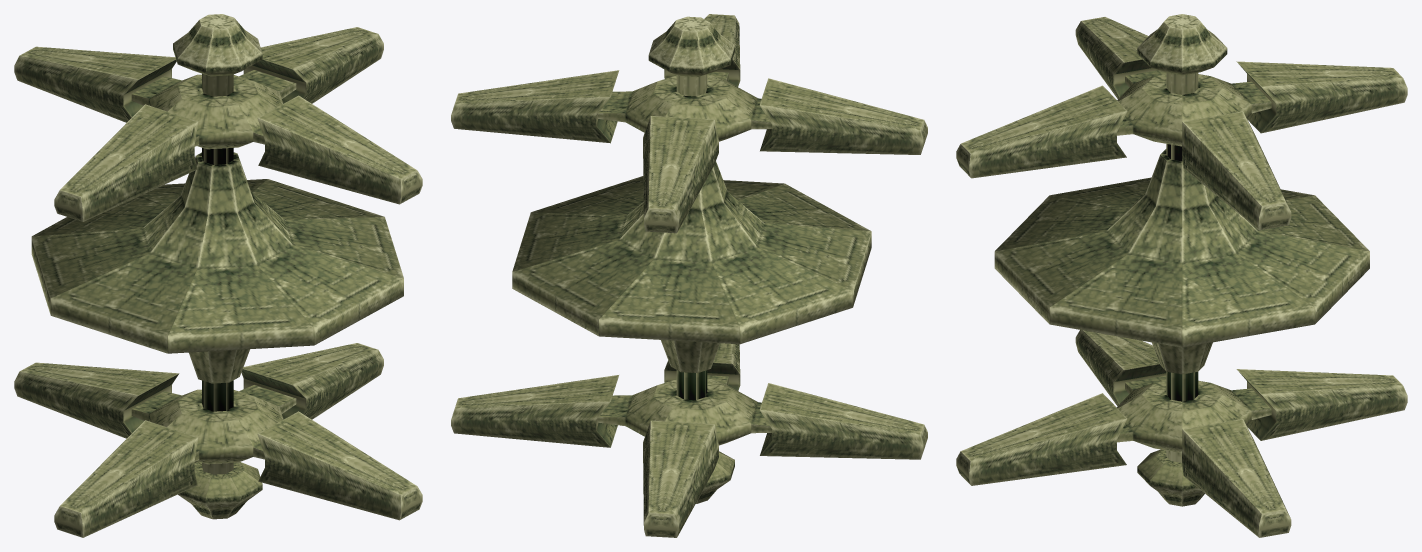
The model's file is space_hexagon.fbx.
The picture shows the model from 3 angles, left to right: view 1: azimuth 30°, elevation 25°; view 2: azimuth 150°, elevation 25°; view 3: azimuth 270°, elevation 25°; orthographic projection. The views are drawn at different scales.
Visible parts, largest first — view 1: Objekt035; view 2: Objekt035; view 3: Objekt035.
Boxes of the visible parts, x1,y1,x2,y2 form: Objekt035: [14, 14, 422, 537]; Objekt035: [451, 14, 927, 537]; Objekt035: [956, 14, 1407, 537].
Size of the model in its own units: 2109 by 2424 by 2080.
